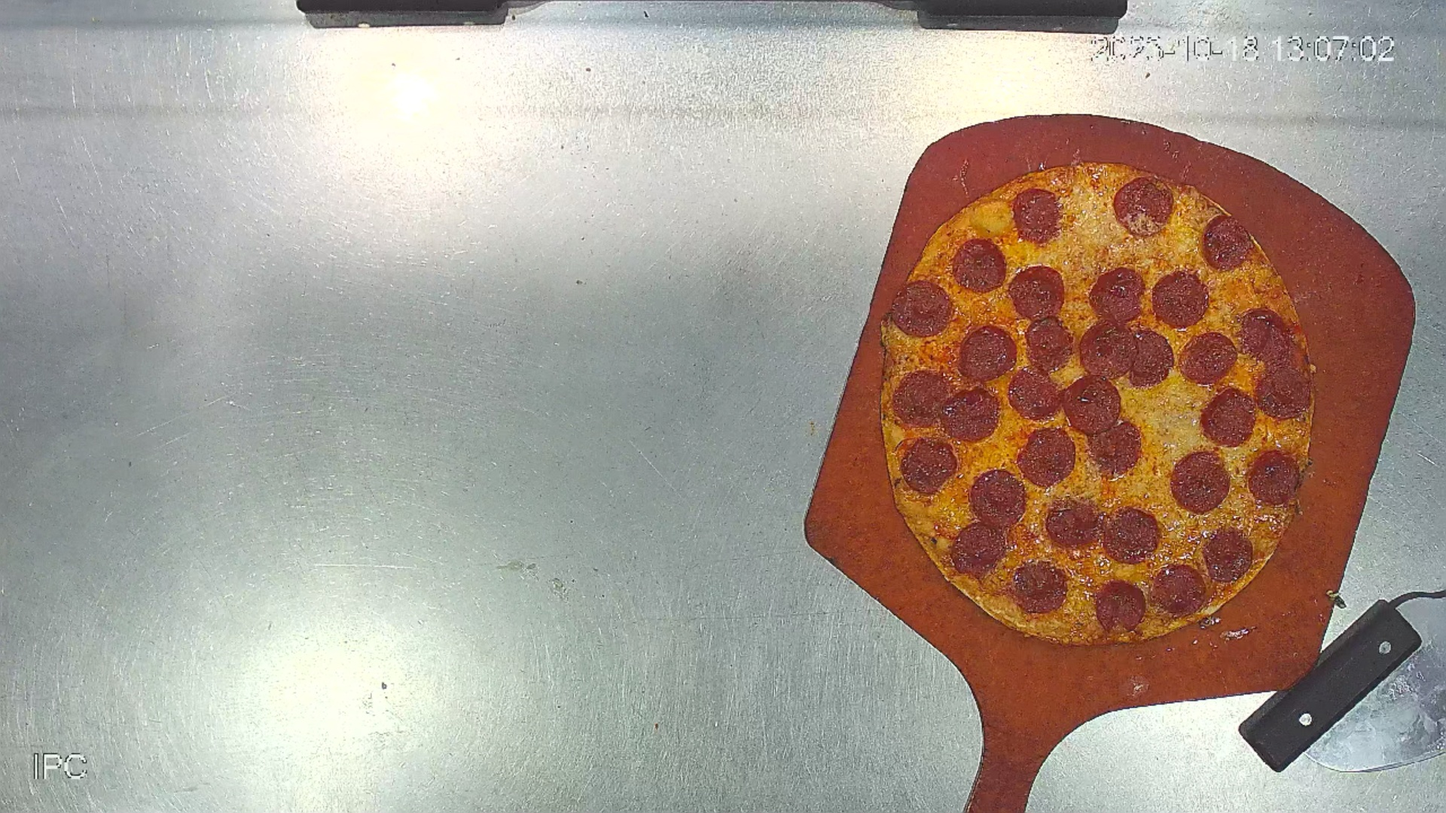pepperoni: (871, 160, 1320, 650)
